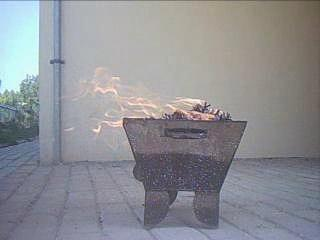fire: (68, 69, 221, 133)
